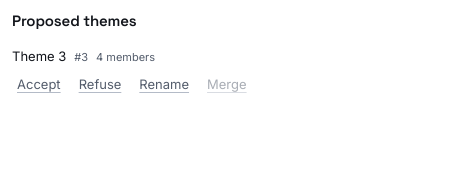
Test: ThemesProposed › cancels a rename on Escape without posting
Click the button with aria-label "Rename theme 3": (164,84) [134,70,194,98]
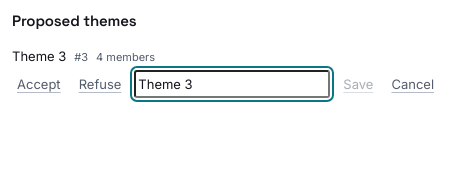
Press Escape in the field named "New name for theme 3", box [134,70,330,98]
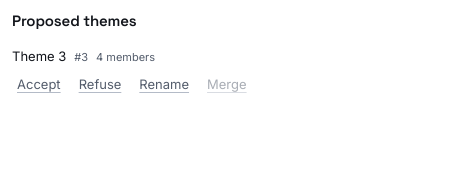
expect the field is gone: met
